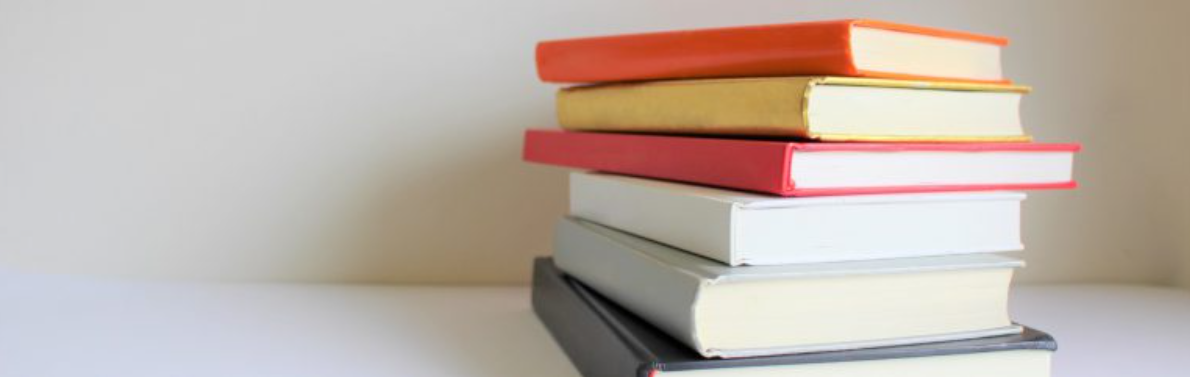book: (549, 248, 1030, 351), (514, 127, 1082, 198), (569, 171, 1031, 258), (519, 23, 1013, 92), (562, 75, 1027, 145)
